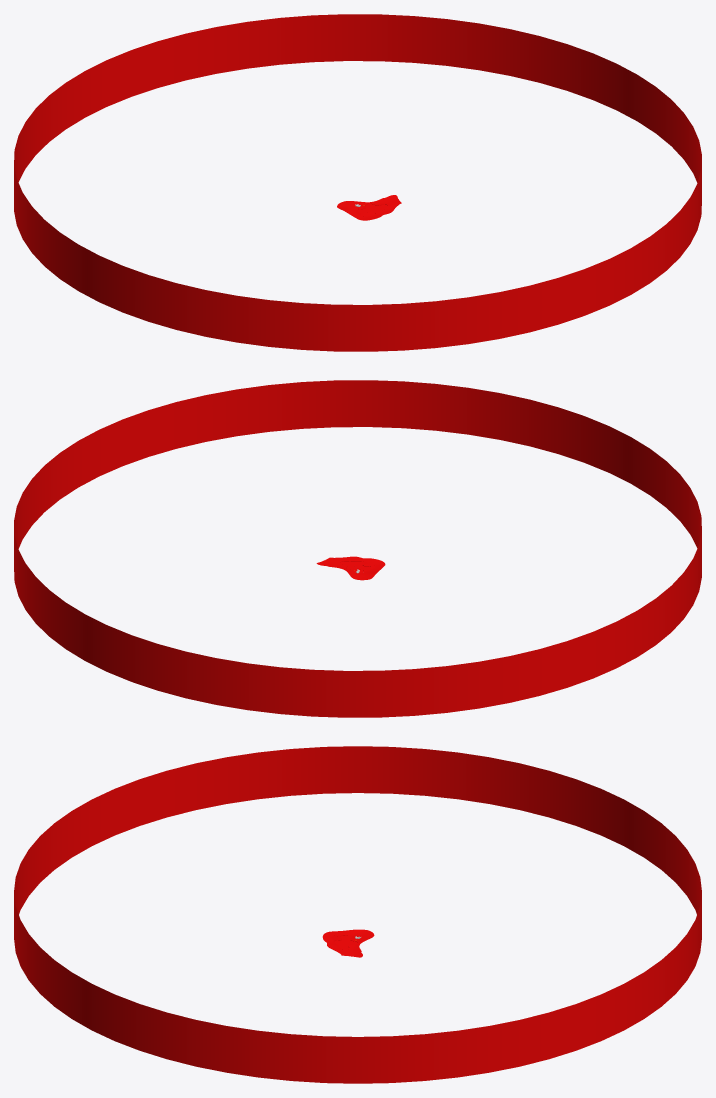
The model's file is Map.glb.
3 views of the same model, one above another, from view 1: azimuth 30°, elevation 25°; view 2: azimuth 150°, elevation 25°; view 3: azimuth 270°, elevation 25° (orthographic).
Parts seen in each view (by area): view 1: Main; view 2: Main; view 3: Main.
Boxes of the visible parts, box(x1,y1,x2,y2) form: Main: box(14, 14, 701, 351); Main: box(14, 380, 701, 717); Main: box(14, 746, 701, 1083).
Bounding box in the file's own units: 400000 × 30054 × 400000.
Materials: 20 (19 with a texture image).
